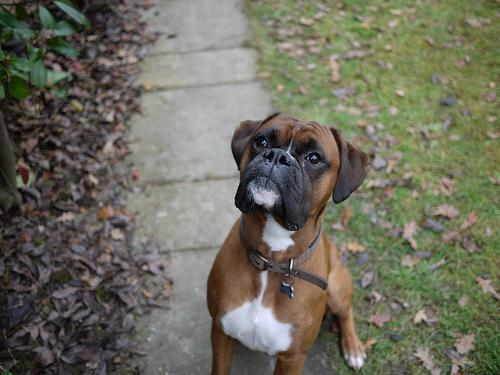dog-boxer: (229, 111, 370, 228)
